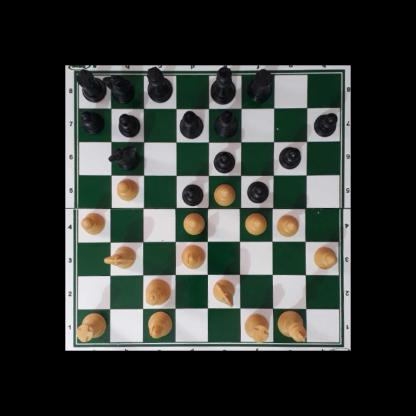black-bishop: (213, 110, 239, 138), (179, 110, 204, 138)
black-king: (211, 66, 236, 106)
black-knight: (104, 73, 133, 104), (108, 144, 140, 170)
black-pawn: (80, 110, 104, 135), (314, 113, 338, 137), (117, 112, 139, 137), (279, 145, 301, 170), (213, 150, 236, 173), (247, 179, 269, 203), (182, 182, 204, 205)
black-queen: (144, 67, 173, 104)
black-rook: (74, 69, 108, 102), (247, 67, 274, 104)
white-bishop: (148, 310, 172, 338), (181, 243, 206, 268)
white-king: (277, 309, 307, 343)
white-knight: (103, 246, 137, 269), (212, 279, 237, 307)
white-pawn: (313, 245, 338, 270), (80, 211, 105, 235), (276, 211, 299, 237), (244, 211, 267, 235), (115, 178, 138, 201), (183, 211, 205, 235), (213, 183, 236, 205)
white-queen: (146, 276, 170, 307)
white-rook: (76, 312, 108, 341), (244, 312, 271, 343)
